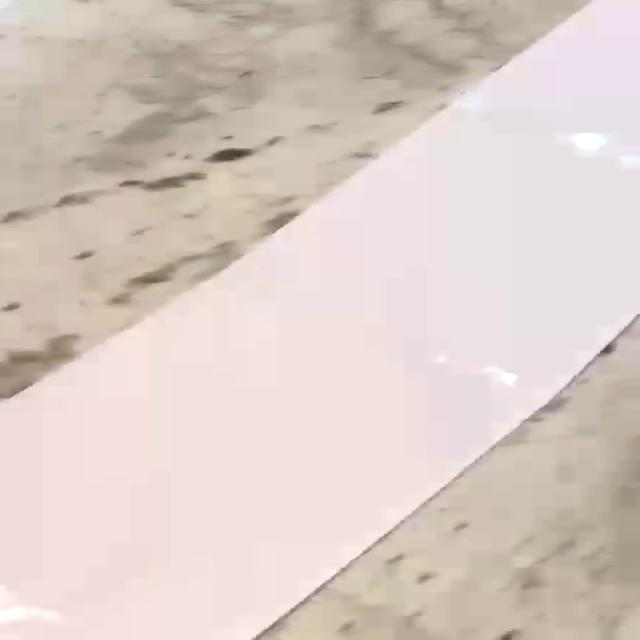road: (0, 0, 640, 640)
